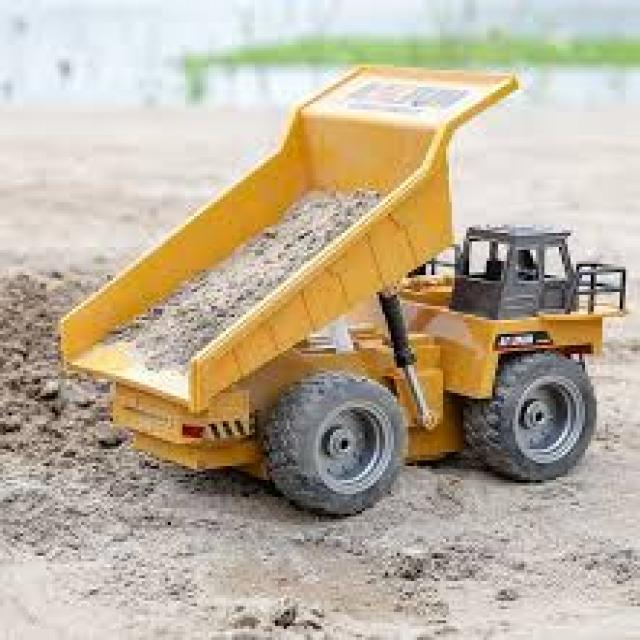dump_truck: (58, 61, 628, 519)
